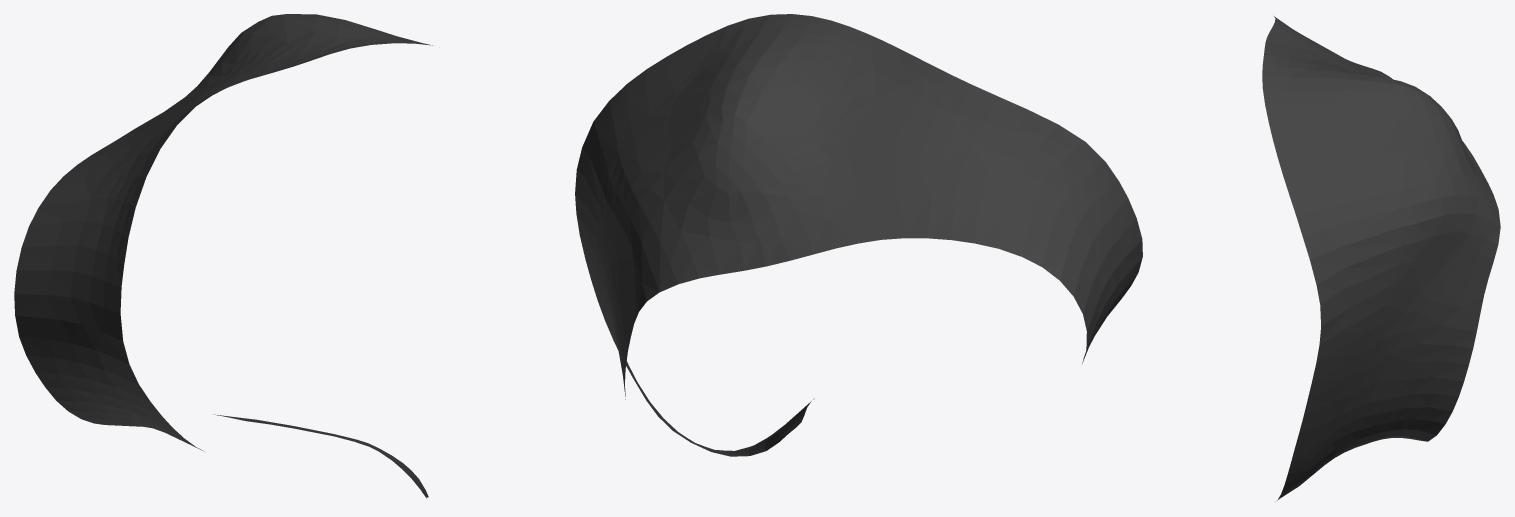
Rendered from Radius_neck.glb.
The picture shows the model from 3 angles, left to right: view 1: azimuth 30°, elevation 25°; view 2: azimuth 150°, elevation 25°; view 3: azimuth 270°, elevation 25°; orthographic projection. The views are drawn at different scales.
Parts seen in each view (by area): view 1: Radius_neck; view 2: Radius_neck; view 3: Radius_neck.
Part boxes in pixels (x1=…): Radius_neck: x1=14, y1=14, x2=432, y2=498; Radius_neck: x1=575, y1=14, x2=1142, y2=456; Radius_neck: x1=1262, y1=16, x2=1500, y2=500.
Size of the model in its own units: 0.2451 by 0.2101 by 0.1567.
Materials: 1 (1 with a texture image).
